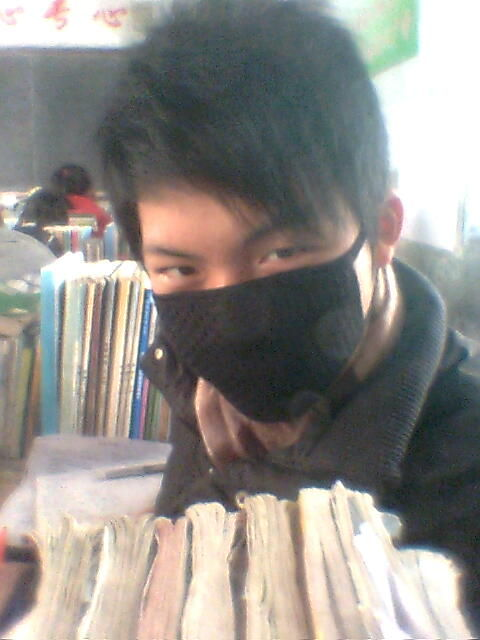face_mask: (143, 141, 347, 422)
